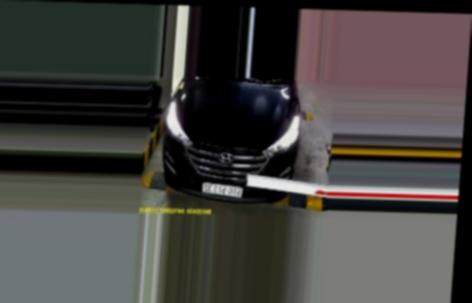License_Plate: (200, 180, 243, 199)
